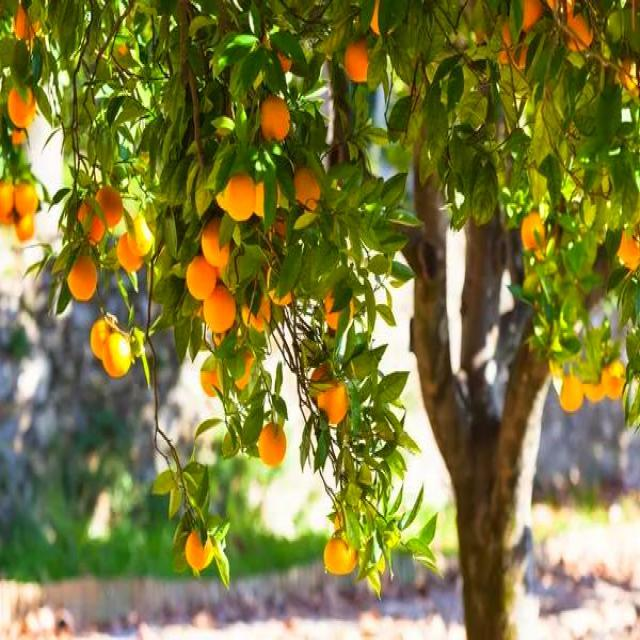Jeruk Sudah Matang: (200, 288, 234, 333), (226, 172, 256, 222), (202, 216, 230, 269), (563, 0, 592, 51), (262, 96, 290, 144), (323, 538, 356, 578), (104, 332, 132, 378), (8, 83, 36, 128), (318, 380, 348, 422), (259, 422, 287, 466), (325, 286, 353, 330), (76, 202, 105, 244), (187, 258, 216, 300), (266, 260, 292, 306), (291, 167, 318, 210), (68, 258, 95, 300), (242, 294, 272, 330), (343, 40, 368, 82), (96, 187, 122, 227), (492, 14, 514, 61), (187, 532, 212, 572), (118, 233, 144, 270), (12, 3, 38, 40), (256, 180, 280, 220), (230, 352, 255, 390), (130, 219, 155, 256), (522, 212, 544, 250), (604, 362, 626, 398), (15, 182, 38, 216), (372, 1, 394, 36), (558, 378, 582, 410), (268, 43, 292, 75), (616, 232, 639, 264), (91, 320, 110, 357), (522, 1, 546, 28), (202, 365, 222, 397), (616, 62, 634, 92), (0, 182, 14, 215), (584, 379, 602, 402), (17, 216, 34, 240)
